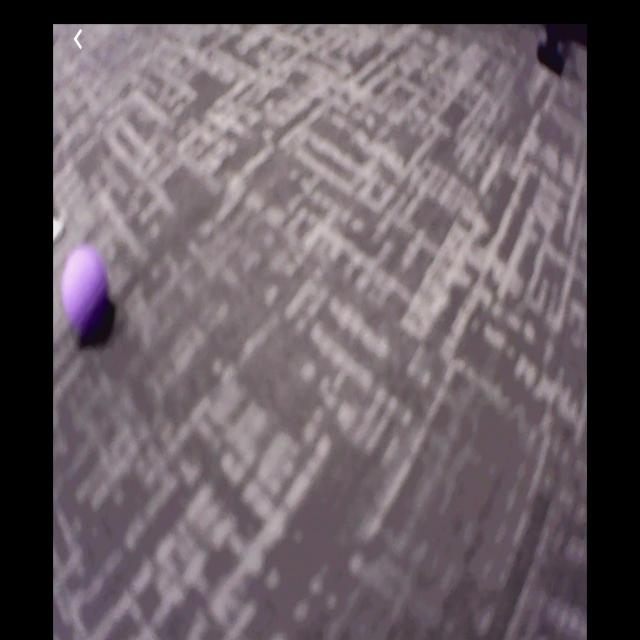ball: (63, 247, 110, 337)
